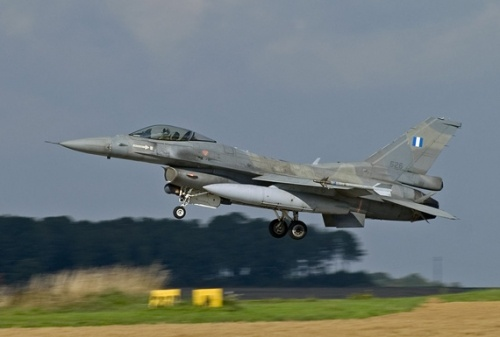airplane: (41, 112, 467, 245)
